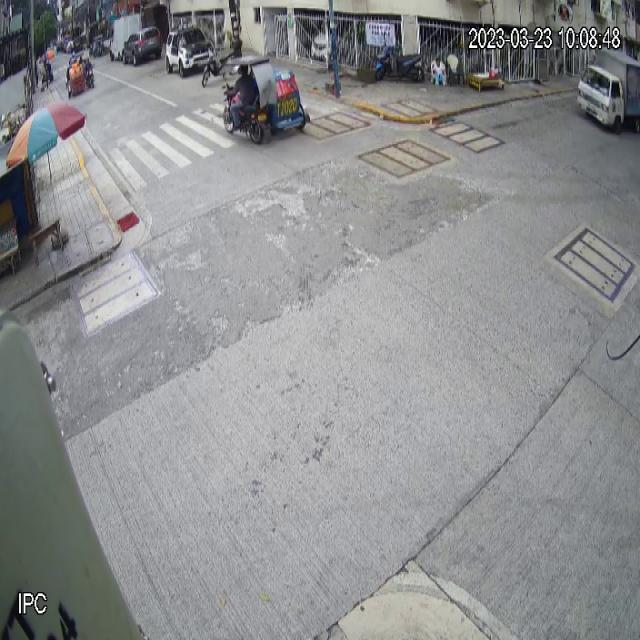Tricycle: (222, 55, 310, 145)
Truck: (577, 50, 640, 134)
